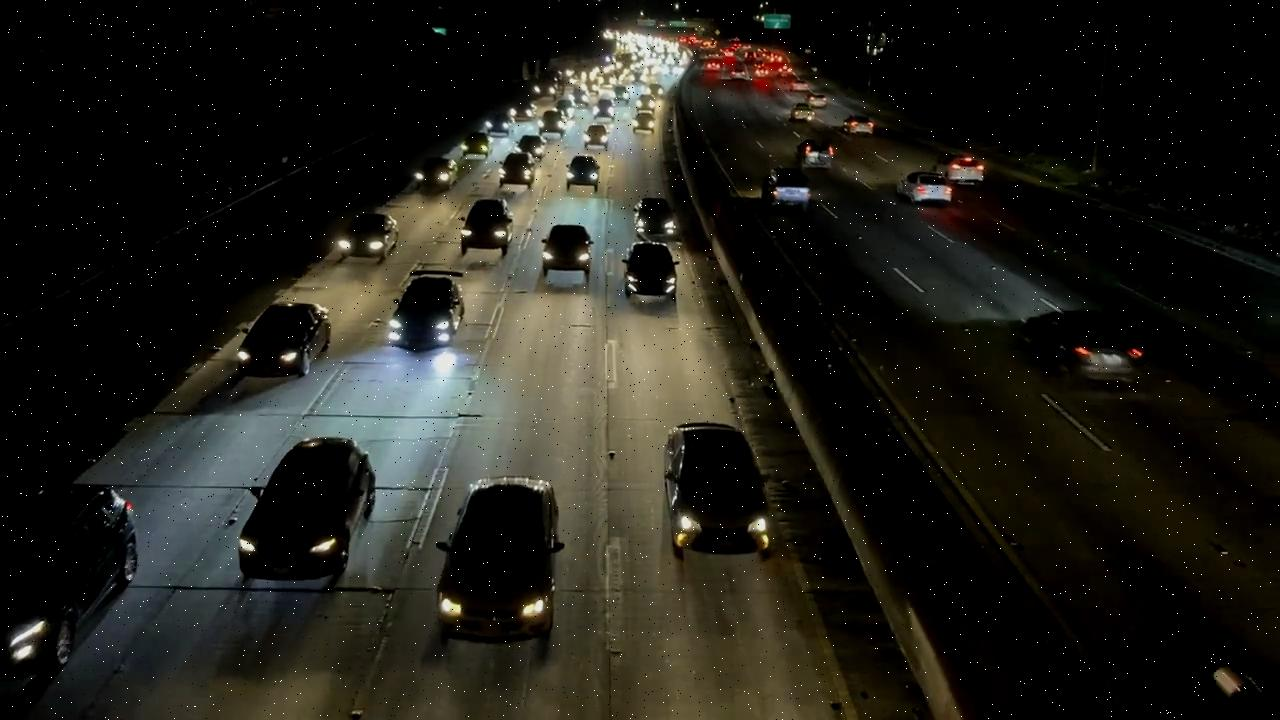car: (0, 480, 150, 684), (426, 468, 574, 642), (242, 436, 374, 576), (662, 414, 776, 564), (1021, 309, 1145, 382), (236, 292, 334, 380), (392, 270, 466, 345), (620, 239, 682, 299), (458, 200, 513, 255), (339, 214, 401, 260), (541, 224, 593, 277), (634, 197, 677, 239), (907, 176, 956, 205), (413, 157, 457, 189), (945, 156, 987, 188), (566, 154, 600, 189), (499, 153, 536, 185), (773, 181, 813, 210), (798, 142, 834, 167), (838, 114, 876, 133), (582, 125, 609, 146), (791, 103, 816, 122), (803, 93, 828, 106)
